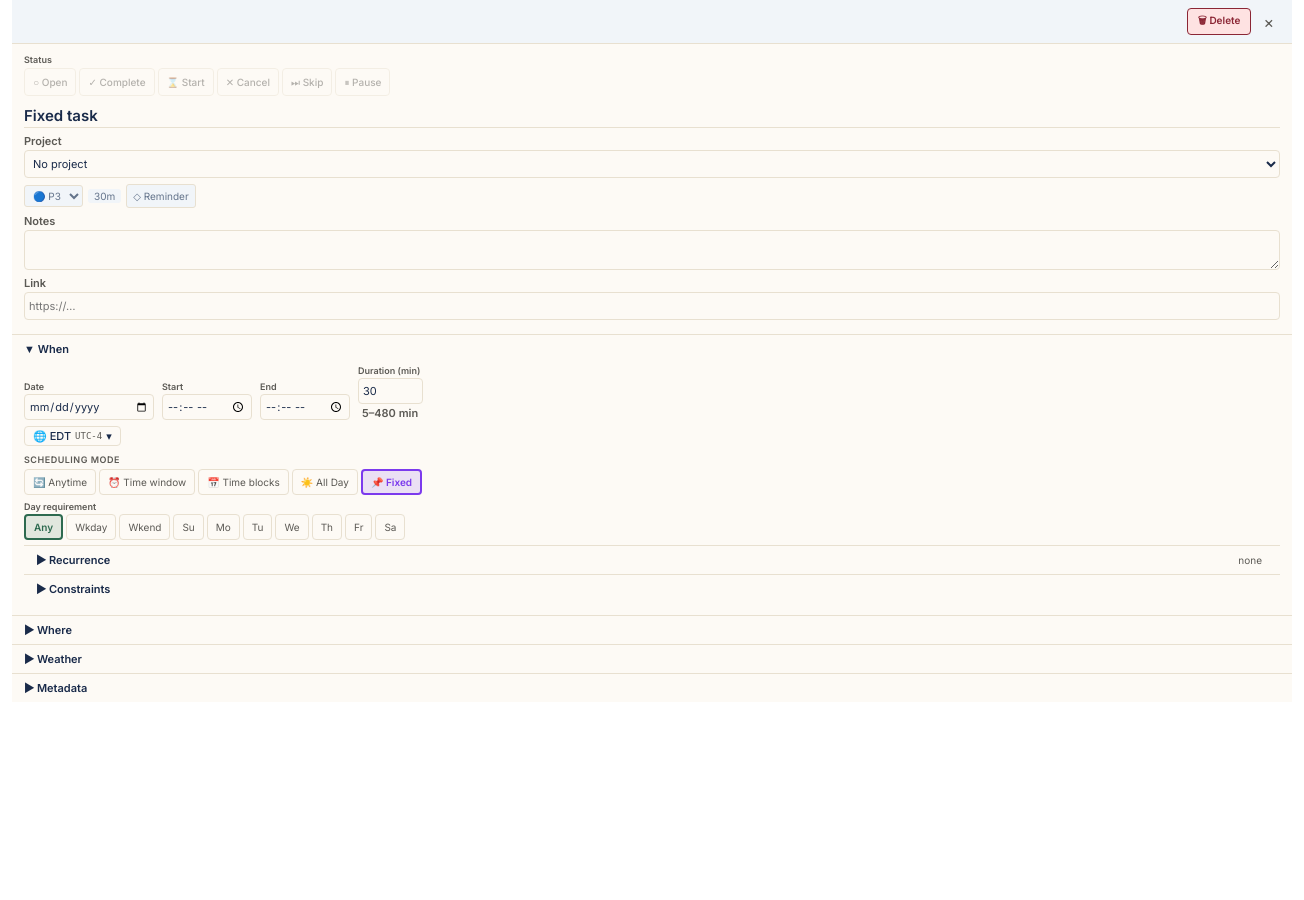
it: TC-W006: Fixed mode with no date/time → Save blocked, validation message visible › validation message appears when Save is clicked with fixed mode and no date
// Make the form dirty by changing the text so Save becomes available
Step 1. Replace the text in the field showing "Fixed task" with "Fixed task edited" → point(652, 116), box [24,104,1280,128]
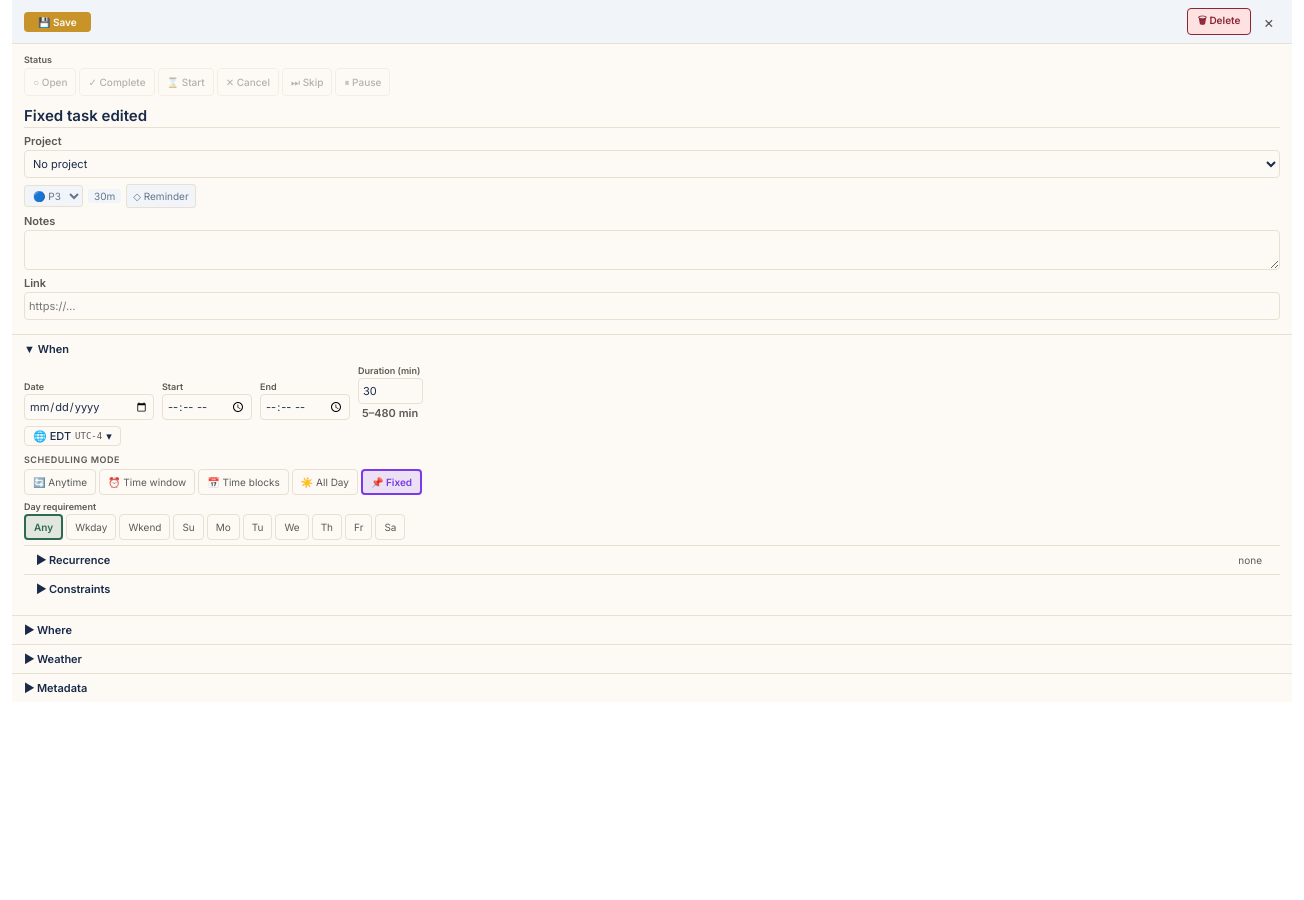
// Click Save
Step 2. Click the button "💾 Save" → point(57, 22), box [24,12,91,32]
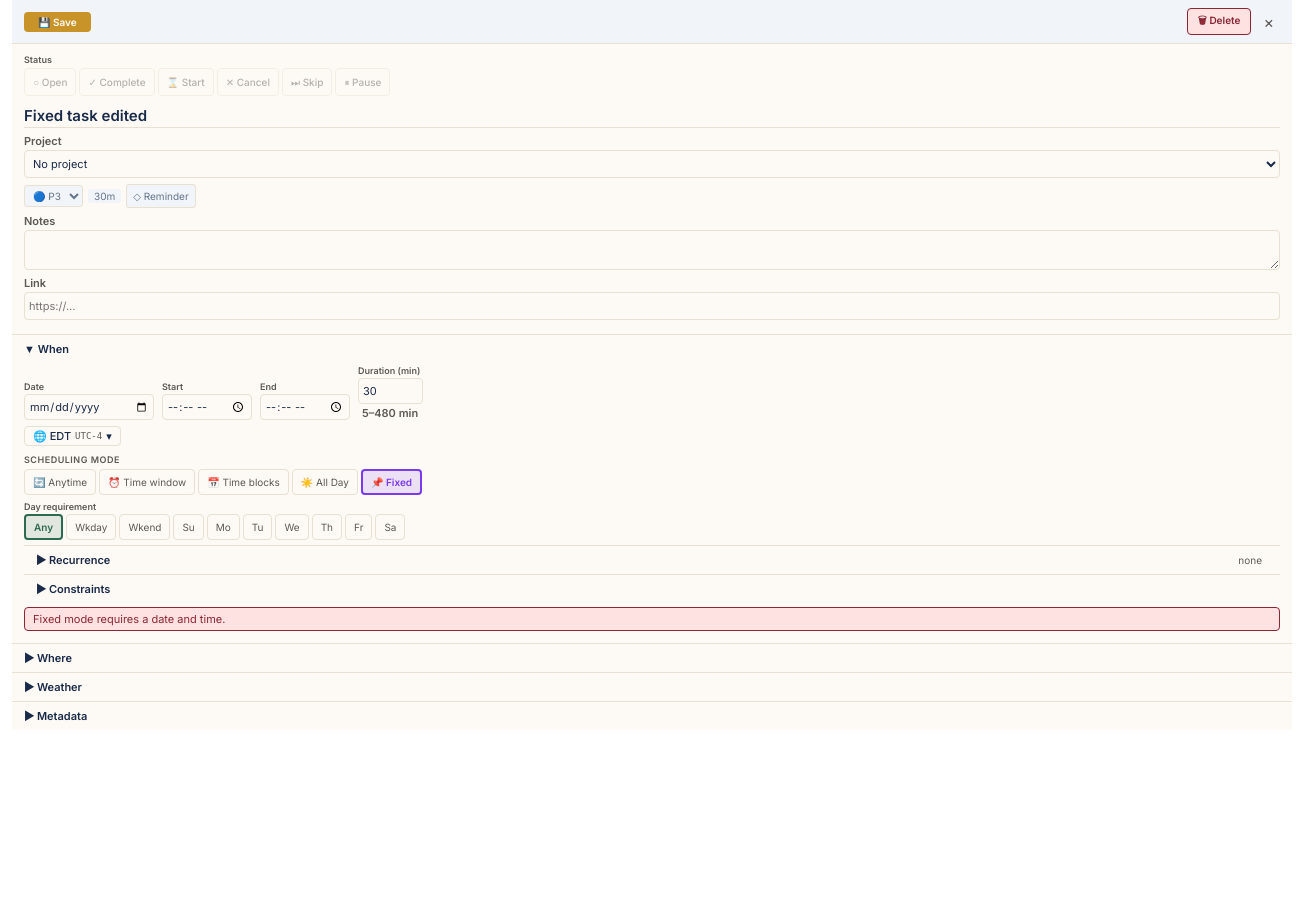
Expected: the text "Fixed mode requires a date and time." is shown, [24,607,1280,631]
